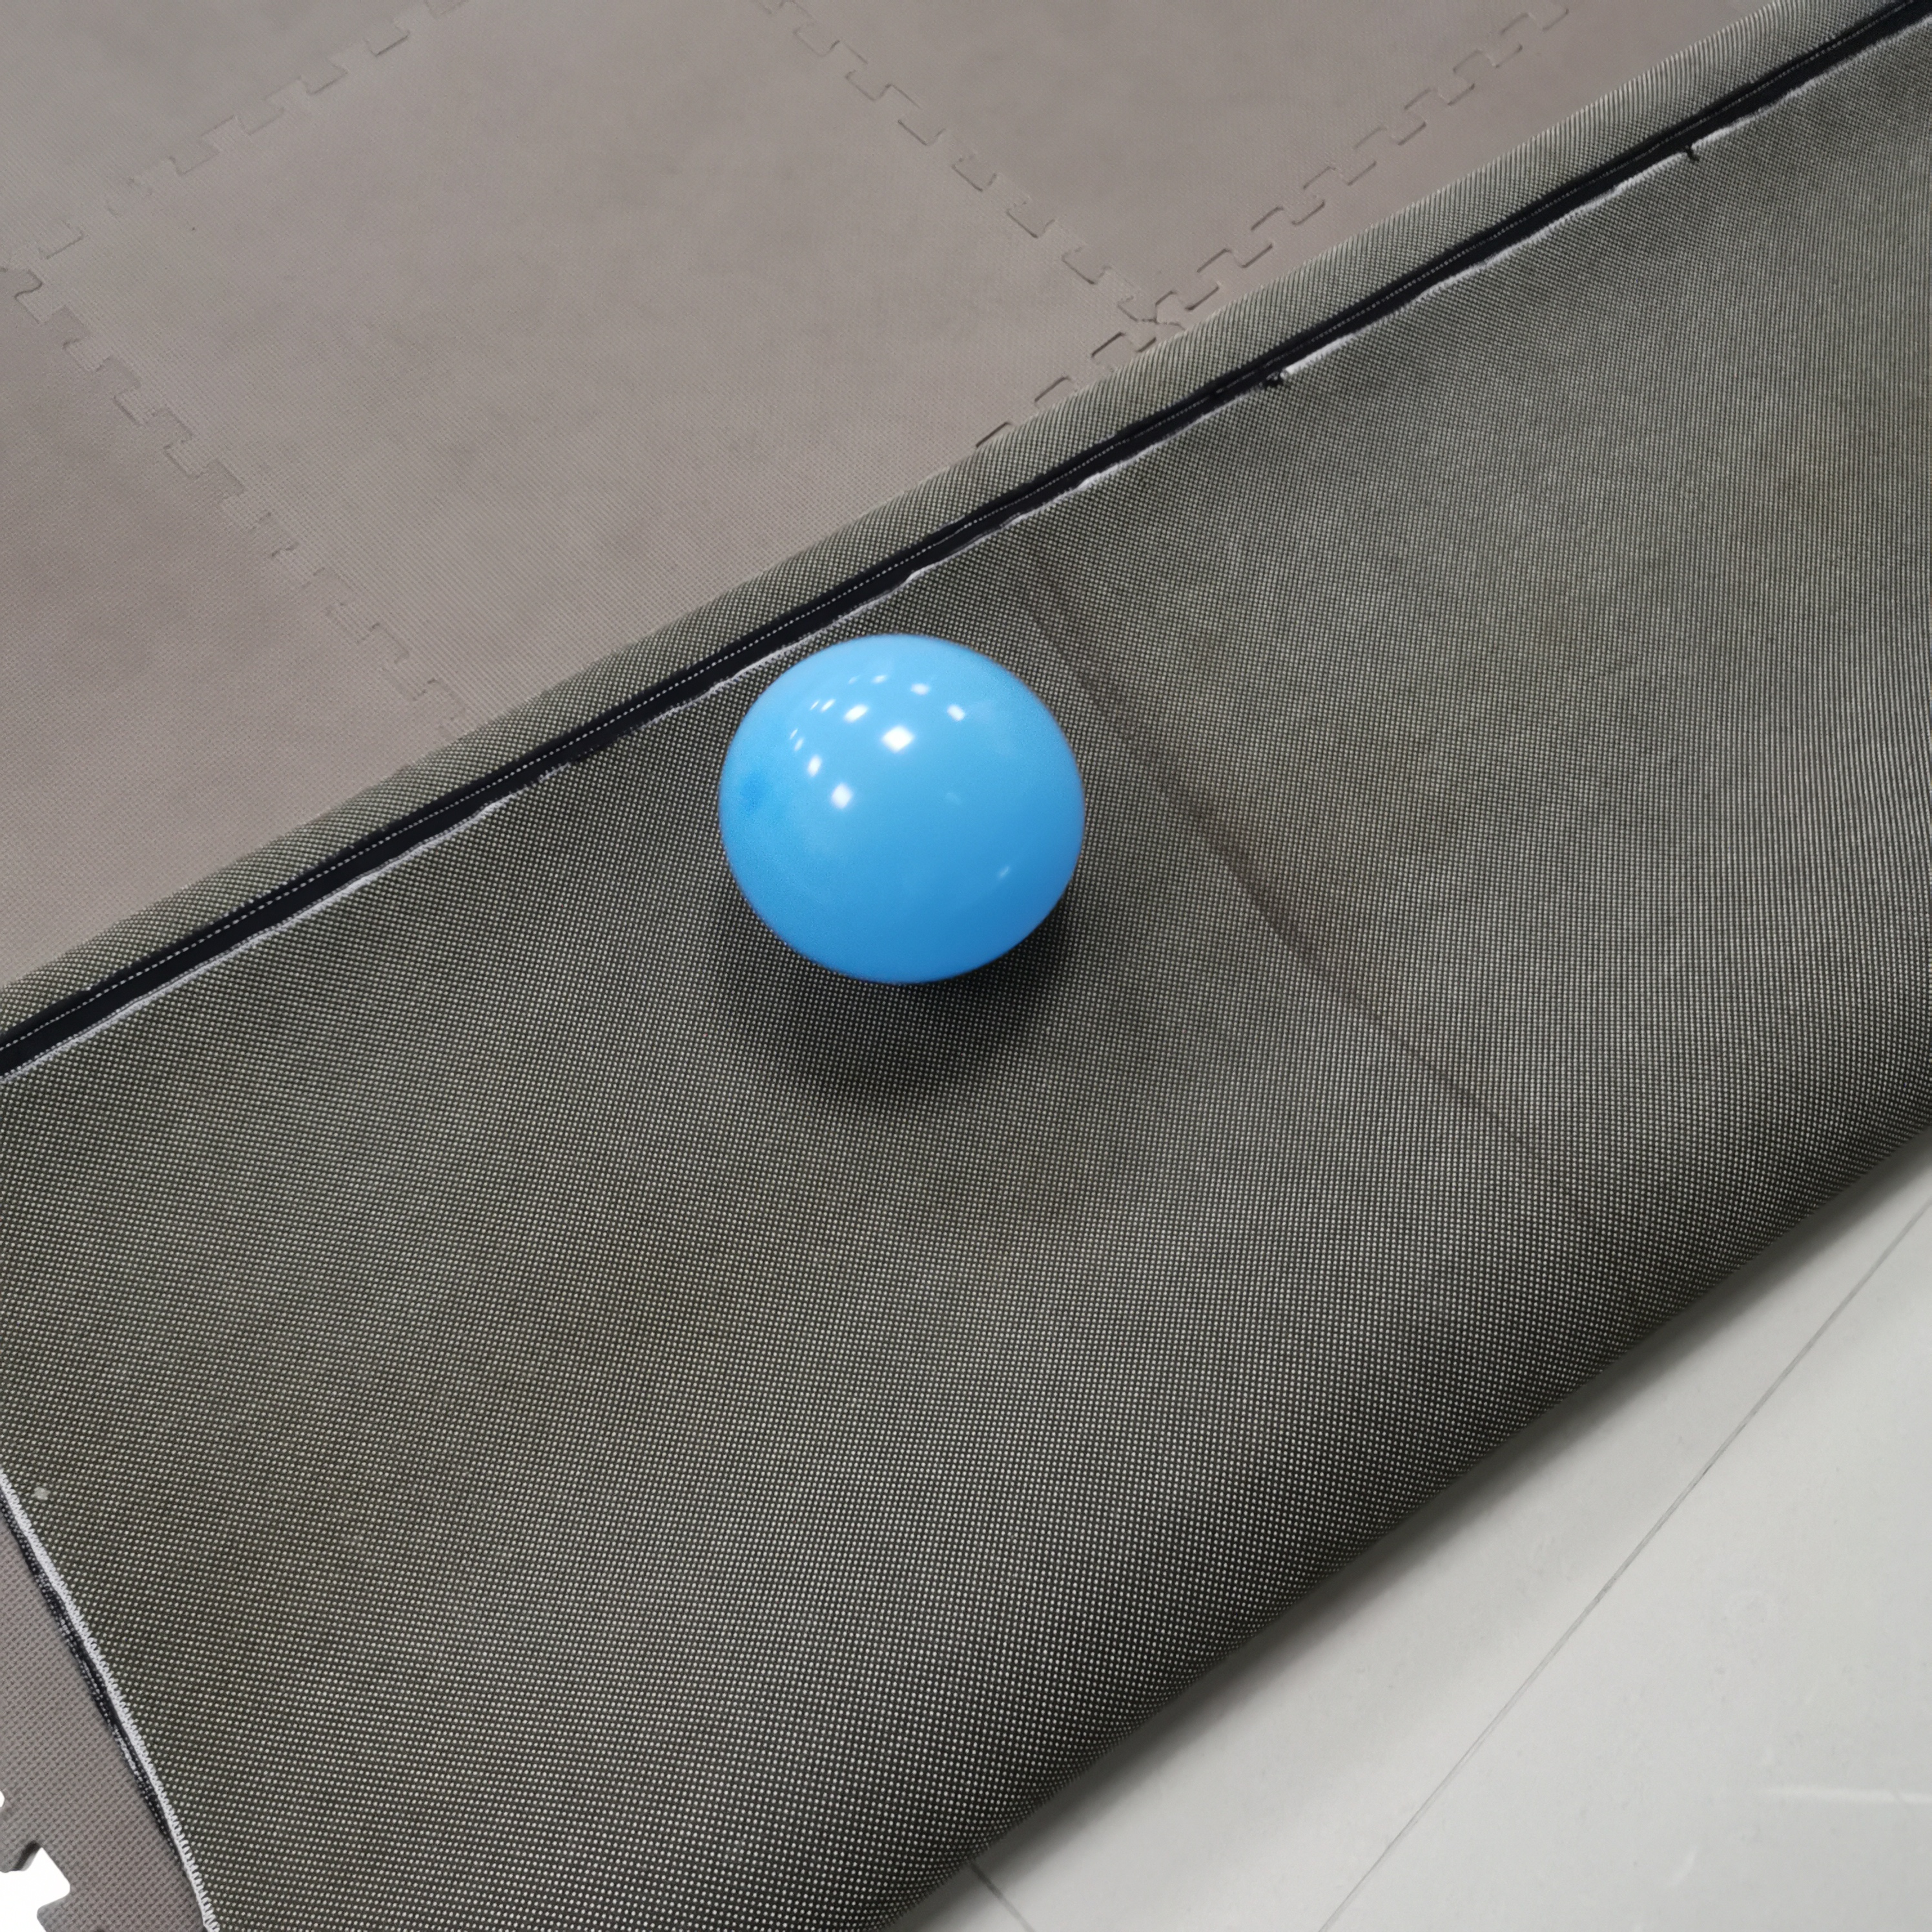balloon: (715, 632, 1086, 985)
